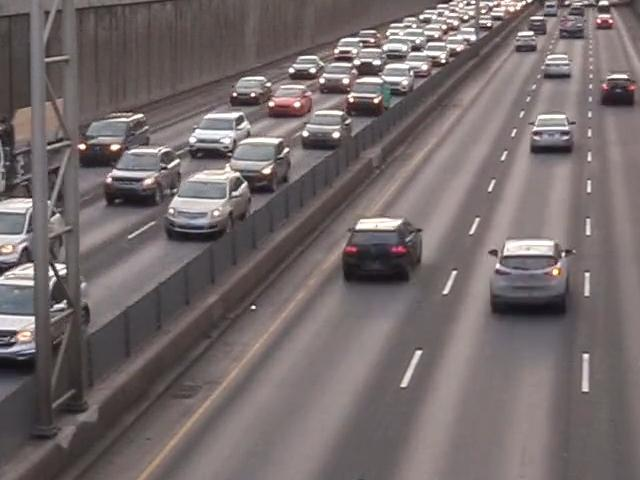car: (0, 261, 86, 374), (483, 232, 578, 317), (340, 208, 427, 287), (162, 173, 258, 240), (102, 138, 178, 213), (0, 196, 71, 273), (77, 113, 151, 165), (228, 136, 290, 191), (191, 110, 254, 154), (522, 115, 577, 157), (302, 109, 351, 148), (267, 82, 315, 116), (346, 79, 390, 114), (229, 75, 274, 107), (599, 72, 638, 106), (379, 65, 416, 95), (321, 61, 357, 90), (288, 56, 324, 82), (402, 54, 435, 82), (352, 47, 385, 74), (416, 42, 449, 68), (542, 53, 574, 79), (335, 37, 367, 60), (514, 30, 539, 53), (560, 17, 586, 39), (595, 12, 615, 29), (530, 17, 547, 35), (544, 1, 559, 17)
truck: (0, 98, 81, 238)
